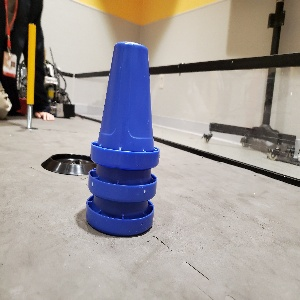Blue_3: (85, 41, 159, 235)
